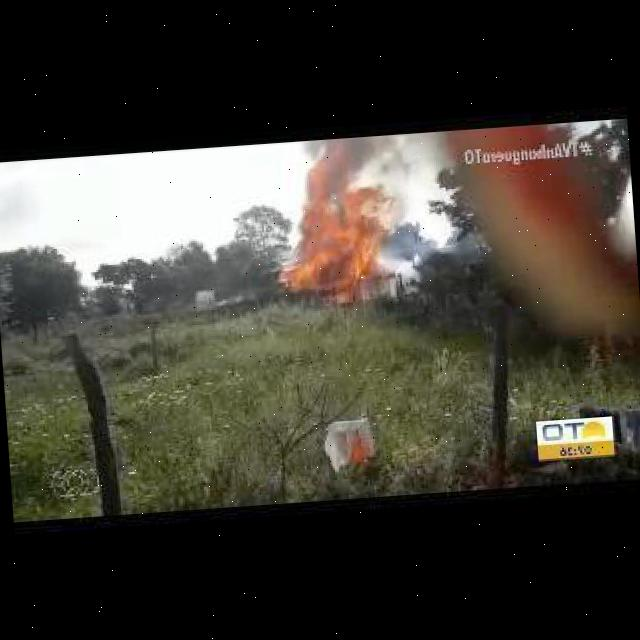fire: (272, 149, 396, 291), (270, 131, 410, 189)
